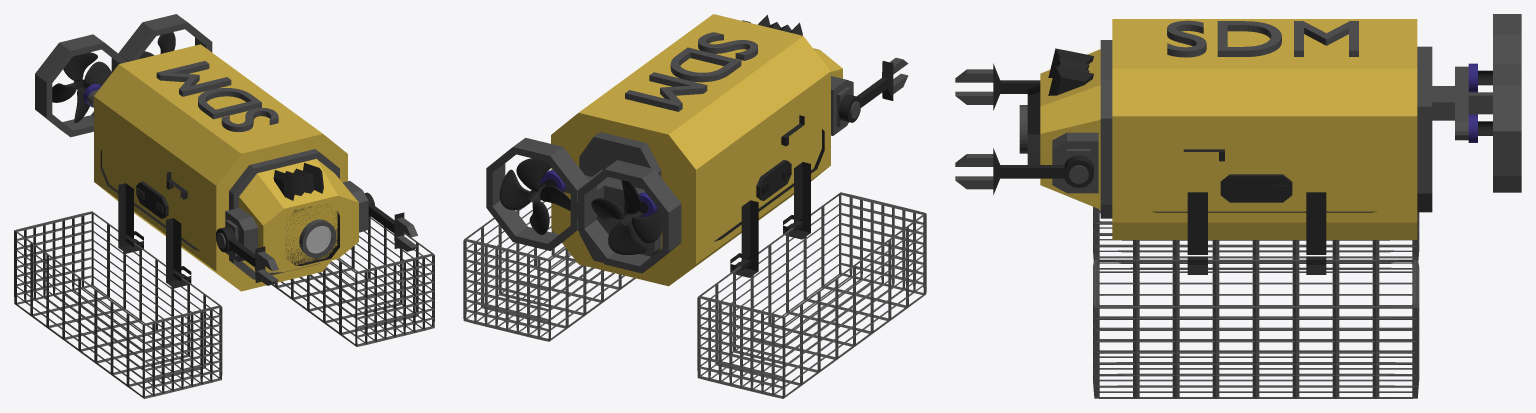
The model's file is collector.glb.
The picture shows the model from 3 angles, left to right: view 1: azimuth 30°, elevation 25°; view 2: azimuth 150°, elevation 25°; view 3: azimuth 270°, elevation 25°; orthographic projection. The views are drawn at different scales.
Visible parts, largest first — view 1: main_body, Cube, head1, Circle.001, bag_keeper, Text, wing_r, neck, Plane, arm, Cube.001, camera_frame (+3 smaller); view 2: main_body, Cube, Circle.001, wing_r, bag_keeper, Text, arm, Plane, Circle.002; view 3: main_body, Cube, Circle.001, bag_keeper, head1, Text, arm, neck, finger, Plane, Cube.001, neck.001 (+1 smaller).
Boxes of the visible parts, left/top/right/bottom form: main_body: left=94, top=44, right=347, bottom=291; Cube: left=14, top=211, right=434, bottom=398; head1: left=239, top=159, right=358, bottom=272; Circle.001: left=35, top=14, right=212, bottom=137; bag_keeper: left=100, top=149, right=199, bottom=288; Text: left=156, top=61, right=278, bottom=132; wing_r: left=52, top=32, right=175, bottom=122; neck: left=229, top=149, right=339, bottom=279; Plane: left=225, top=181, right=368, bottom=261; arm: left=216, top=192, right=404, bottom=282; Cube.001: left=273, top=163, right=323, bottom=200; camera_frame: left=299, top=219, right=336, bottom=257; main_body: left=551, top=14, right=830, bottom=286; Cube: left=463, top=184, right=926, bottom=398; Circle.001: left=486, top=132, right=681, bottom=273; wing_r: left=499, top=158, right=662, bottom=254; bag_keeper: left=714, top=115, right=824, bottom=277; Text: left=625, top=32, right=757, bottom=111; arm: left=838, top=61, right=893, bottom=122; Plane: left=831, top=76, right=853, bottom=135; Circle.002: left=540, top=170, right=657, bottom=217; main_body: left=1112, top=19, right=1417, bottom=239; Cube: left=1093, top=207, right=1419, bottom=398; Circle.001: left=1417, top=14, right=1521, bottom=212; bag_keeper: left=1152, top=149, right=1376, bottom=274; head1: left=1040, top=49, right=1100, bottom=209; Text: left=1167, top=20, right=1358, bottom=57; arm: left=993, top=63, right=1093, bottom=194; neck: left=1100, top=40, right=1112, bottom=218; finger: left=955, top=69, right=993, bottom=189; Plane: left=1052, top=132, right=1098, bottom=193; Cube.001: left=1048, top=48, right=1093, bottom=95; neck.001: left=1027, top=85, right=1040, bottom=164.
Bounding box in the file's own units: 4.09 × 2.95 × 5.53.
